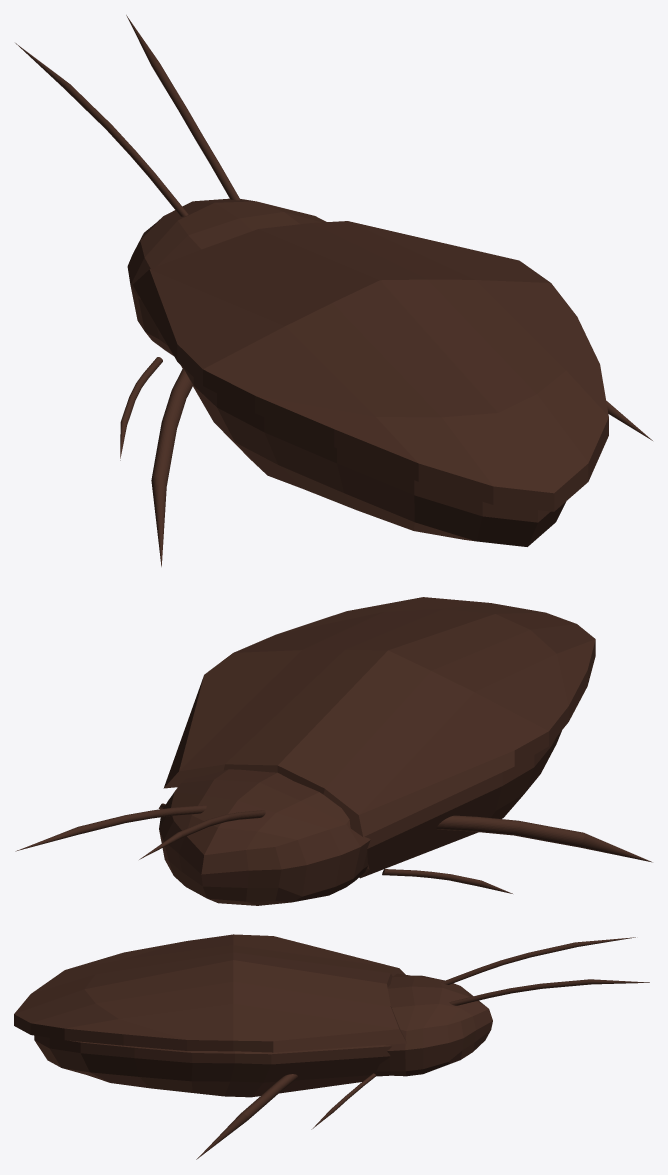
Rendered from Cockroach.fbx.
3 views of the same model, one above another, from view 1: azimuth 30°, elevation 25°; view 2: azimuth 150°, elevation 25°; view 3: azimuth 270°, elevation 25° (orthographic). The views are drawn at different scales.
Visible parts, largest first — view 1: Cube; view 2: Cube; view 3: Cube.
Boxes of the visible parts, x1,y1,x2,y2 form: Cube: (15,15,652,566); Cube: (15,597,652,905); Cube: (14,934,649,1159).
Bounding box in the file's own units: 202 × 82.62 × 356.
